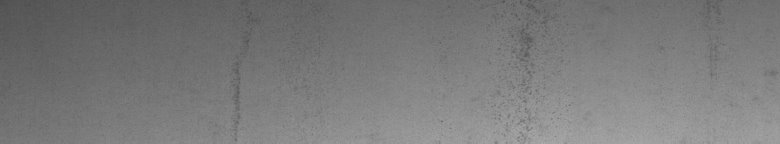ib: (498, 4, 571, 136)
